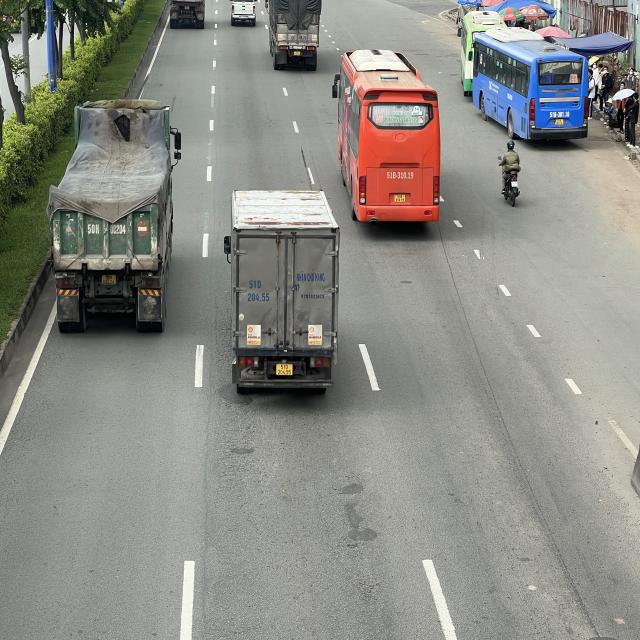car: (231, 0, 258, 26)
coach: (334, 50, 443, 228), (466, 23, 588, 143), (457, 11, 506, 94)
container: (48, 103, 180, 342)
truck: (225, 187, 343, 399), (266, 1, 321, 71)
